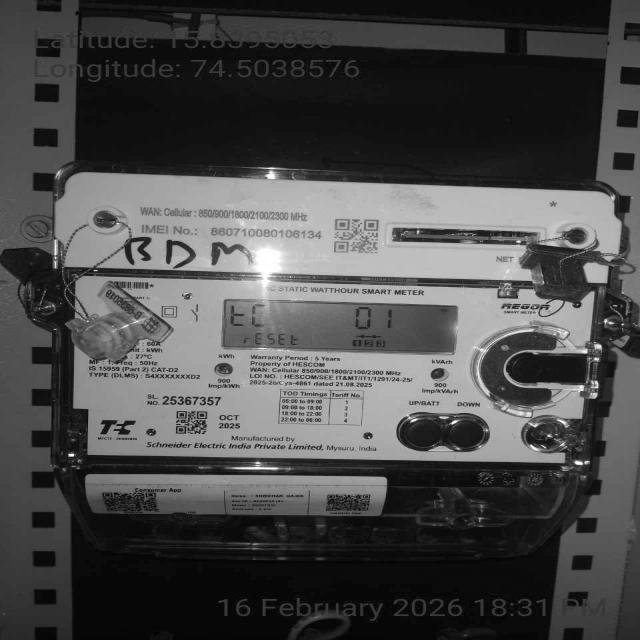meter: (51, 173, 606, 465)
